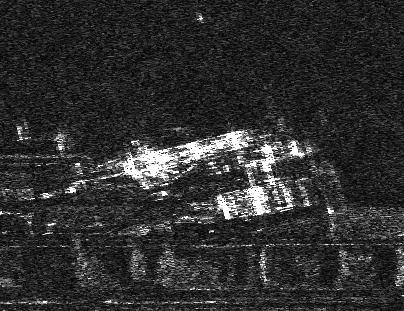ship: (123, 125, 255, 184)
